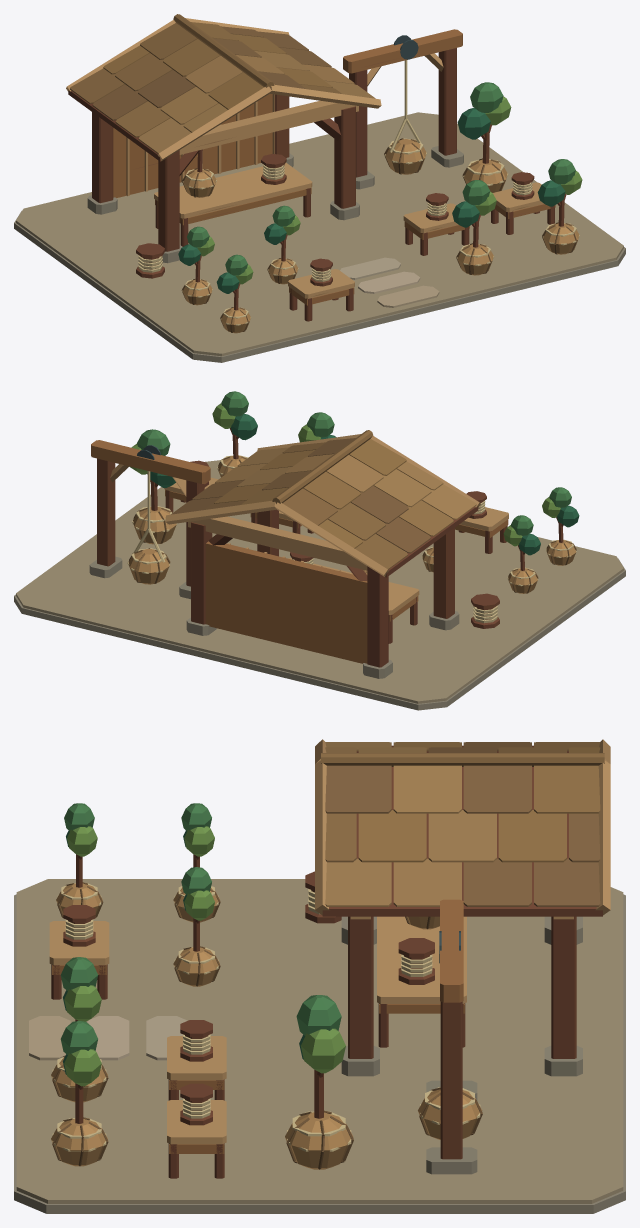
3 views of the same model, one above another, from view 1: azimuth 30°, elevation 25°; view 2: azimuth 150°, elevation 25°; view 3: azimuth 270°, elevation 25° (orthographic). The views are drawn at different scales.
Parts seen in each view (by area): view 1: Base, Staff08, Staff10, Staff09, Staff06, Staff04, Staff07, Staff03, Staff05; view 2: Base, Staff08, Staff07, Staff03, Staff09, Staff10, Staff04; view 3: Base, Staff08, Staff04, Staff09, Staff06, Staff10, Staff05, Staff07, Staff03.
Part boxes in pixels (x1=…): Base: x1=14, y1=14, x2=625, y2=362; Staff08: x1=537, y1=159, x2=582, y2=254; Staff10: x1=452, y1=180, x2=496, y2=275; Staff09: x1=288, y1=258, x2=354, y2=321; Staff06: x1=403, y1=193, x2=469, y2=255; Staff04: x1=491, y1=172, x2=555, y2=234; Staff07: x1=216, y1=254, x2=253, y2=333; Staff03: x1=178, y1=226, x2=214, y2=305; Staff05: x1=264, y1=205, x2=300, y2=284; Base: x1=14, y1=429, x2=625, y2=710; Staff08: x1=212, y1=391, x2=257, y2=477; Staff07: x1=542, y1=487, x2=579, y2=565; Staff03: x1=503, y1=515, x2=540, y2=593; Staff09: x1=455, y1=491, x2=508, y2=553; Staff10: x1=298, y1=412, x2=336, y2=442; Staff04: x1=164, y1=460, x2=218, y2=512; Base: x1=14, y1=739, x2=625, y2=1213; Staff08: x1=51, y1=1021, x2=108, y2=1166; Staff04: x1=167, y1=1083, x2=226, y2=1178; Staff09: x1=49, y1=905, x2=109, y2=999; Staff06: x1=167, y1=1020, x2=226, y2=1100; Staff10: x1=51, y1=957, x2=108, y2=1102; Staff05: x1=173, y1=867, x2=220, y2=986; Staff07: x1=56, y1=803, x2=103, y2=917; Staff03: x1=173, y1=803, x2=220, y2=922.
Size of the model in its own units: 9 by 3.4 by 7.2.
